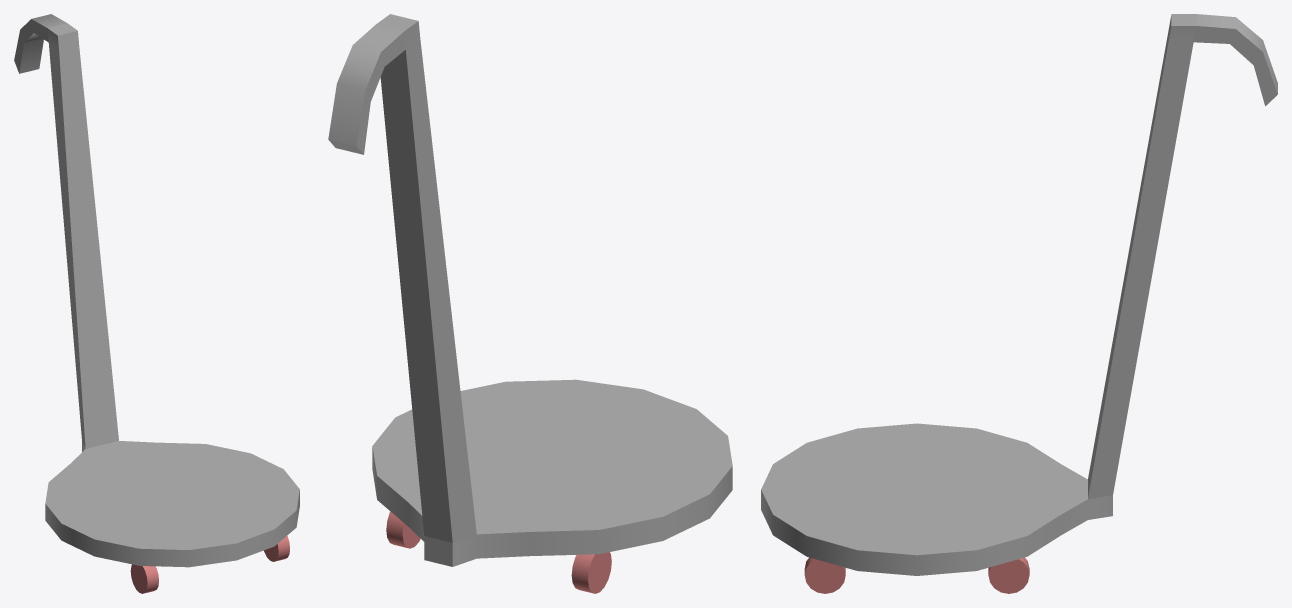
File: Metal Stand.fbx
3 renders of one model, left to right at view 1: azimuth 30°, elevation 25°; view 2: azimuth 150°, elevation 25°; view 3: azimuth 270°, elevation 25°, orthographic. The views are drawn at different scales.
Visible parts, largest first — view 1: Drum_Stand, Wheel1, Wheel; view 2: Drum_Stand, Wheel2, Wheel3; view 3: Drum_Stand, Wheel3, Wheel.
Part boxes in pixels (x1,y1,x2,y2): Drum_Stand: (14,14,299,567); Wheel1: (130,564,158,593); Wheel: (264,536,289,561); Drum_Stand: (328,14,732,566); Wheel2: (571,552,611,593); Wheel3: (386,511,420,548); Drum_Stand: (761,14,1277,575); Wheel3: (988,557,1029,593); Wheel: (804,557,845,593).
Size of the model in its own units: 52.52 by 98.81 by 87.01.
